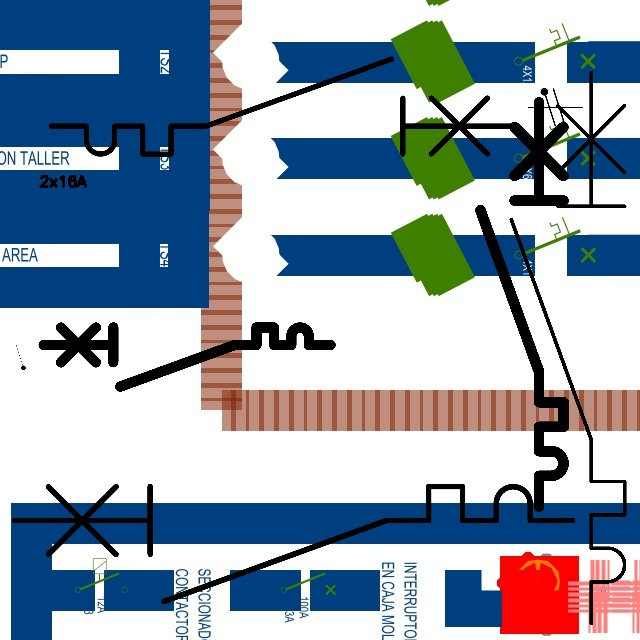interruptor_termomagnetico: (0, 472, 587, 615), (497, 58, 639, 638), (39, 47, 527, 166), (470, 92, 574, 517), (36, 320, 338, 394)
